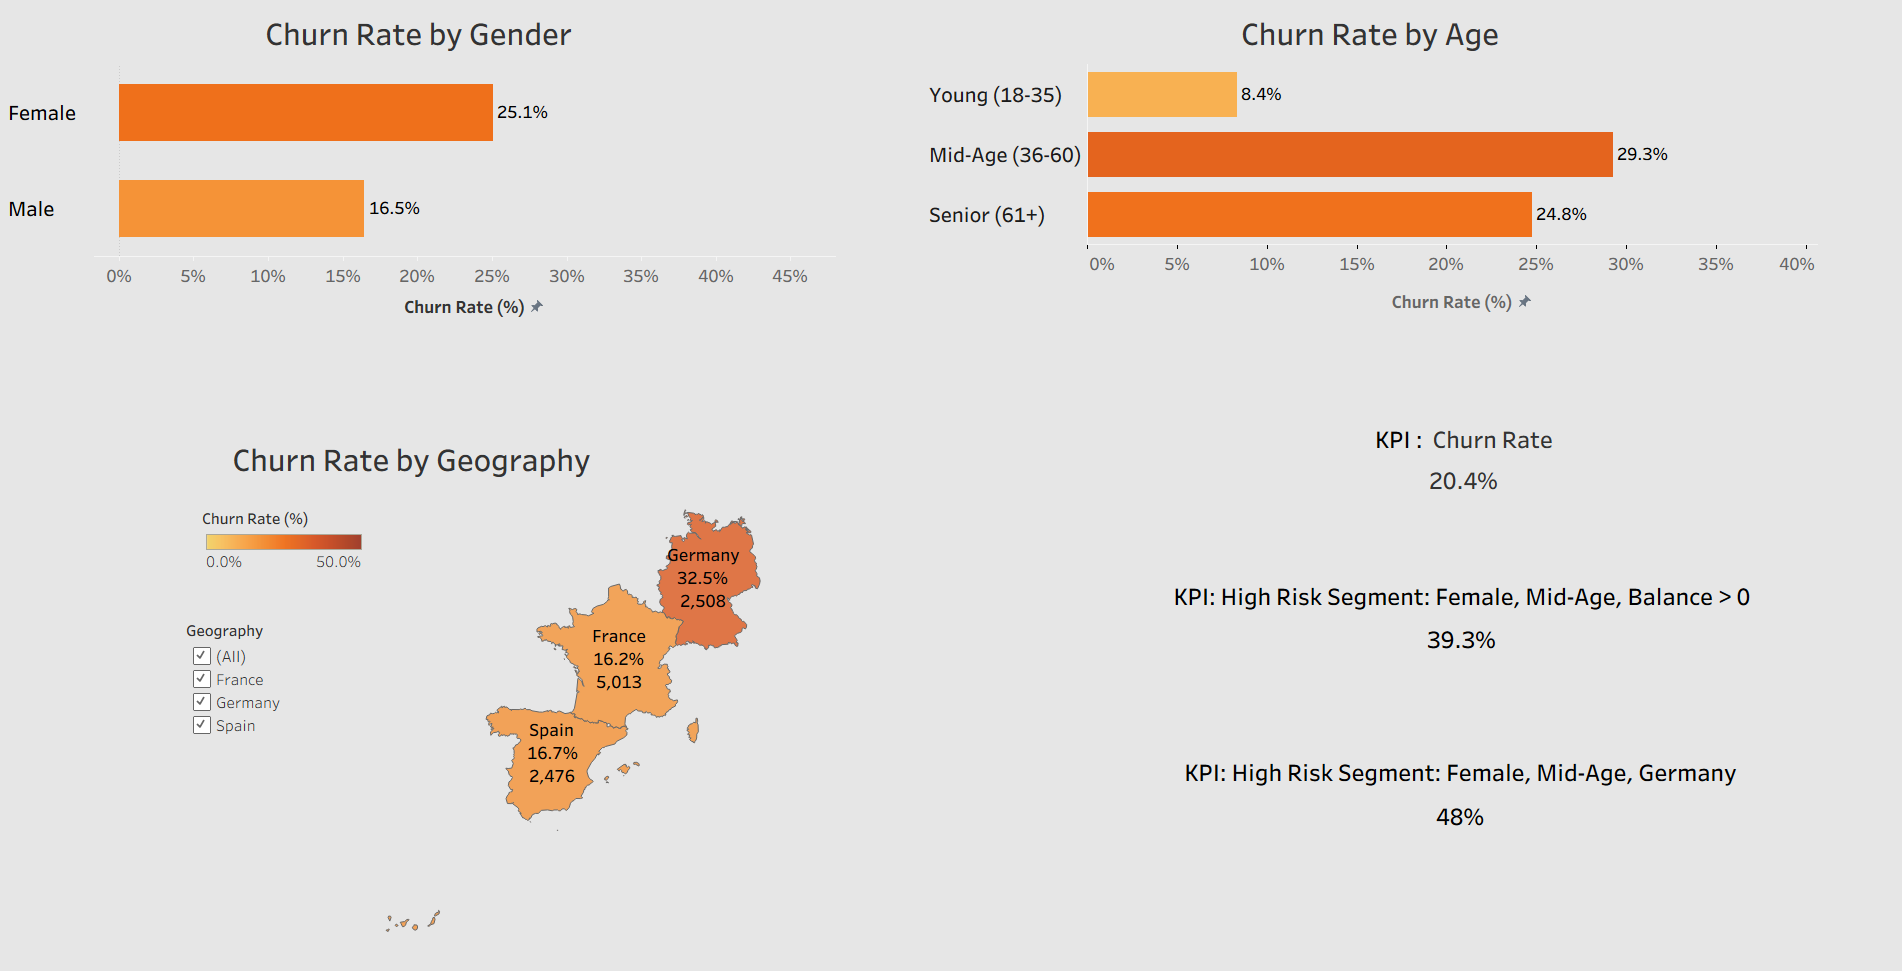

This screenshot's page, from the dashboard's own definition file:
{"tool":"tableau","page":{"name":"Dashboard 1","canvas":[1000,1000],"units":"permille","ordinal":0},"visuals":[{"type":"worksheet","title":"Churn Rate by Gender","mark":"Bar","rows":["Gender"],"cols":["Exited"],"box":[4.8,10,479.1,426.9]},{"type":"worksheet","title":"Churn Rate by Age","mark":"Automatic","rows":["Calculation_1684909217407172614"],"cols":["Exited"],"box":[483.9,10,511.3,426.9]},{"type":"worksheet","title":"Churn Rate","mark":"Automatic","box":[645.9,425.7,265,156.1]},{"type":"worksheet","title":"Churn Rate by Geography","mark":"Automatic","box":[4.8,436.9,990.3,553.1]},{"type":"legend","title":"Churn Rate by Geography","param":"[federated.00r7dno0yfe4lm16fjkmq0ty79b5].[avg:Exited:qk]","box":[110.5,515.6,85.5,109.9]},{"type":"filter","title":"Churn Rate by Geography","param":"[federated.00r7dno0yfe4lm16fjkmq0ty79b5].[none:Geography:nk]","box":[102,628,102,159.8]}]}

Visuals, with their boxes on the dashboard's canvas, which has no fixed pixel size, in thousandths of its width and height (x1, y1, x2, y2). These are canvas units, not pixel positions in the 1902x971 screenshot, which may show the page scaled, cropped or inside an application window:
"Churn Rate by Gender" worksheet (Bar marks): 5/10/484/437
"Churn Rate by Age" worksheet: 484/10/995/437
"Churn Rate" worksheet: 646/426/911/582
"Churn Rate by Geography" worksheet: 5/437/995/990
"Churn Rate by Geography" legend: 110/516/196/626
"Churn Rate by Geography" filter: 102/628/204/788
